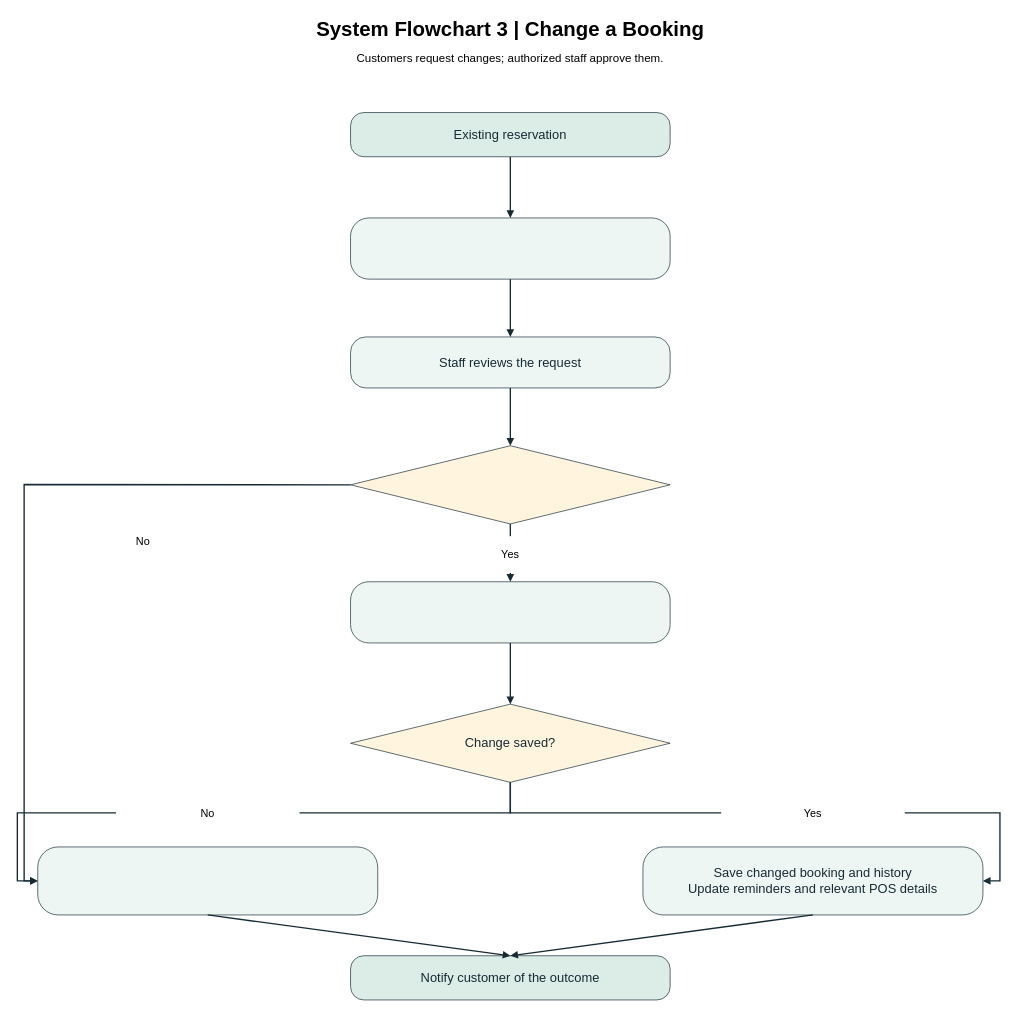
Some shapes in this 1017 by 1012 pixel diagram are drawn without their labels. The shapes that lost their labels are listed below. From the top down, each one's centre as x and y in pixels, then its label:
the point at 510,248: Customer requests a change or staff starts an authorized change
the point at 510,484: Staff approves?
the point at 510,612: Check and save ALL replacement bay allocations
the point at 207,880: Keep the original booking and bays Record rejection or failed change
